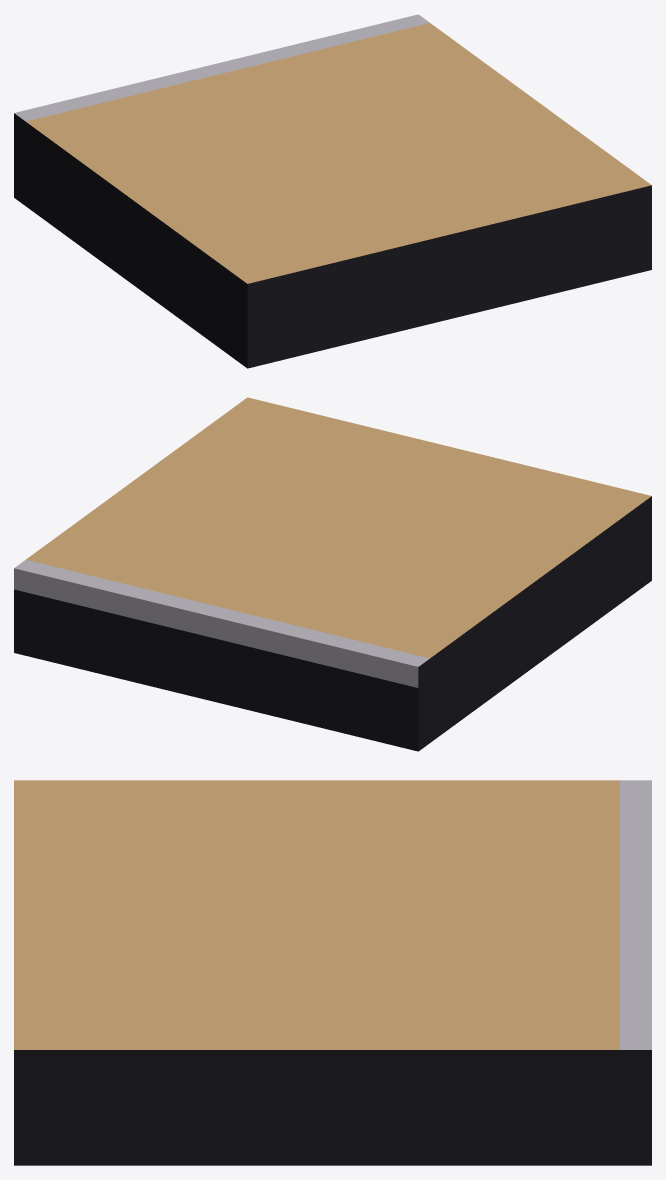
File: ManPad_2.fbx
3 renders of one model, top to bottom at view 1: azimuth 30°, elevation 25°; view 2: azimuth 150°, elevation 25°; view 3: azimuth 270°, elevation 25°, orthographic. The views are drawn at different scales.
Parts seen in each view (by area): view 1: ManPad_2; view 2: ManPad_2; view 3: ManPad_2.
Part boxes in pixels (x1,y1,x2,y2): ManPad_2: (14,14,651,368); ManPad_2: (14,397,651,751); ManPad_2: (14,780,651,1165).
Size of the model in its own units: 10 by 2 by 10.
